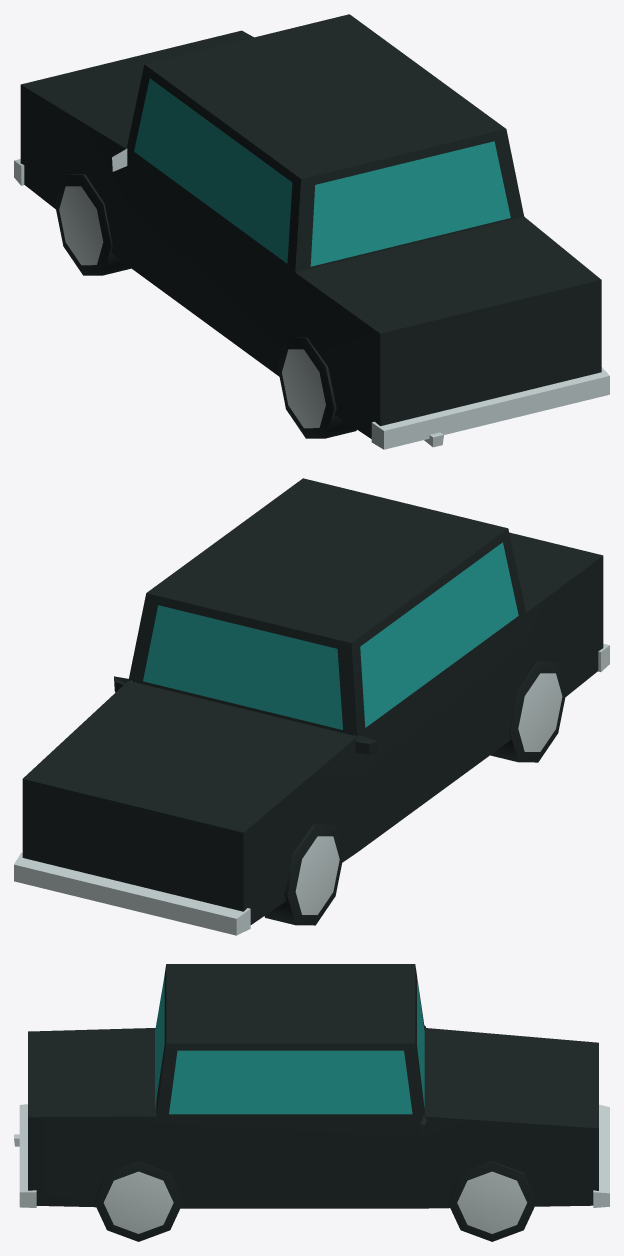
The model's file is EnemyCar.fbx.
3 views of the same model, one above another, from view 1: azimuth 30°, elevation 25°; view 2: azimuth 150°, elevation 25°; view 3: azimuth 270°, elevation 25° (orthographic). The views are drawn at different scales.
Visible parts, largest first — view 1: Body, Windows, Bumper, tire4, tire2; view 2: Body, Windows, Bumper, tire2, tire4; view 3: Body, Windows, tire1, tire3, Bumper.
Part boxes in pixels (x1,y1,x2,y2): Body: (20, 14, 601, 438); Windows: (134, 78, 510, 266); Bumper: (14, 159, 609, 449); tire4: (277, 337, 356, 438); tire2: (55, 174, 130, 275); Body: (22, 478, 603, 924); Windows: (143, 542, 518, 729); Bumper: (14, 643, 609, 935); tire2: (264, 824, 343, 925); tire4: (490, 661, 566, 762); Body: (28, 964, 598, 1208); Windows: (155, 976, 424, 1114); tire1: (447, 1161, 536, 1241); tire3: (94, 1161, 183, 1241); Bumper: (19, 1104, 609, 1207).
Bounding box in the file's own units: 220 × 194 × 542.
